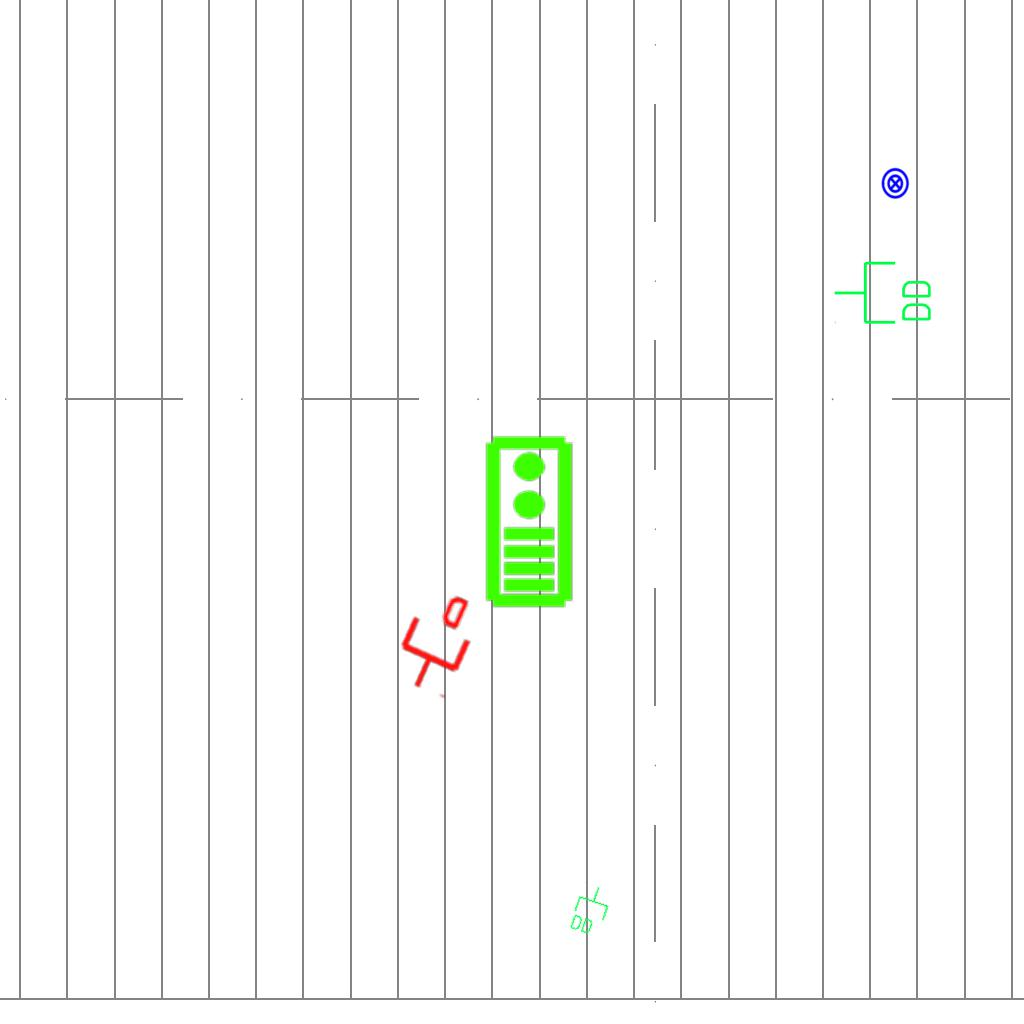Datenanschluss_einfach: (384, 582, 489, 702)
Datenanschluss_zweifach: (832, 259, 935, 328), (566, 880, 615, 940)
Gegensprechanlage_mit_Video: (480, 433, 575, 609)
Taster_beleuchtet: (879, 167, 912, 200)
